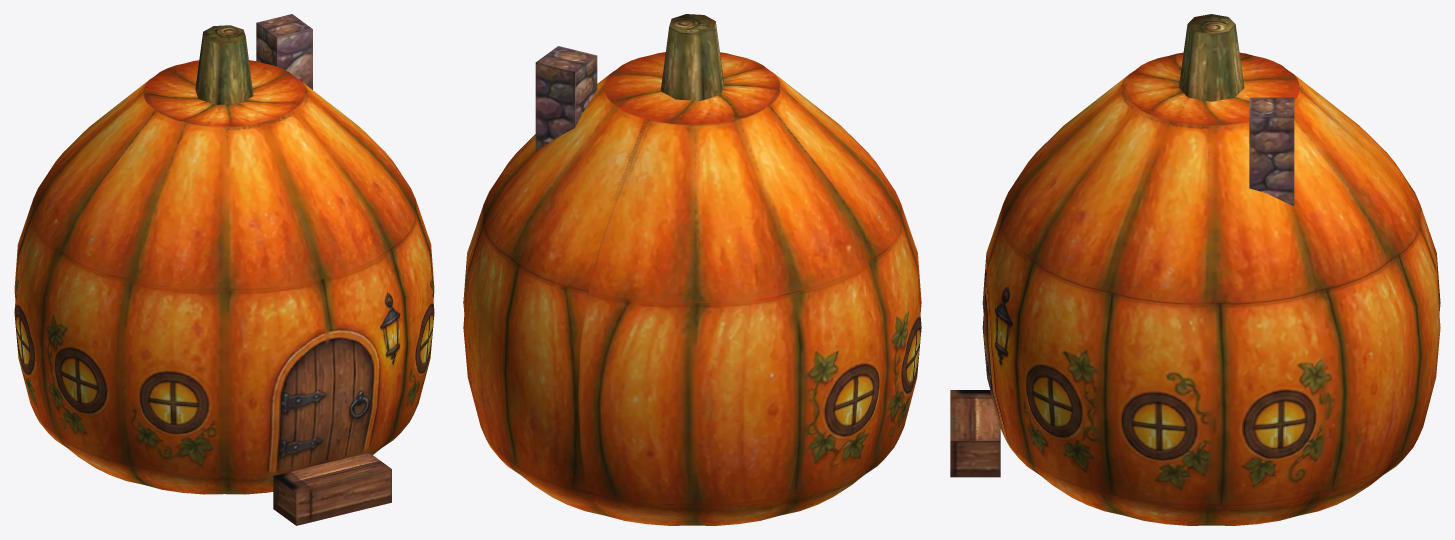
Rendered from pumpkin_house.glb.
3 views of the same model, side by side, from view 1: azimuth 30°, elevation 25°; view 2: azimuth 150°, elevation 25°; view 3: azimuth 270°, elevation 25° (orthographic). The views are drawn at different scales.
Parts seen in each view (by area): view 1: GEO-pumpkin_house; view 2: GEO-pumpkin_house; view 3: GEO-pumpkin_house.
Part boxes in pixels (left/top/right/bottom): GEO-pumpkin_house: left=14, top=14, right=434, bottom=525; GEO-pumpkin_house: left=463, top=14, right=921, bottom=525; GEO-pumpkin_house: left=950, top=14, right=1440, bottom=525.
Size of the model in its own units: 4.56 by 4.7 by 4.88.
Materials: 1 (1 with a texture image).
